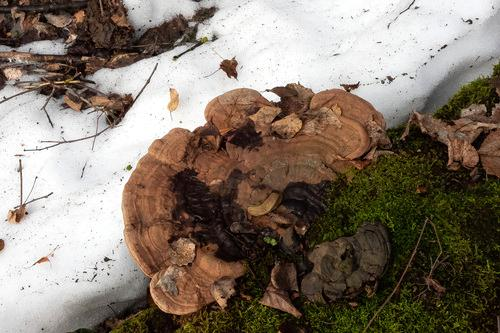Ganoderma - Fruit Body: (123, 79, 387, 312)
